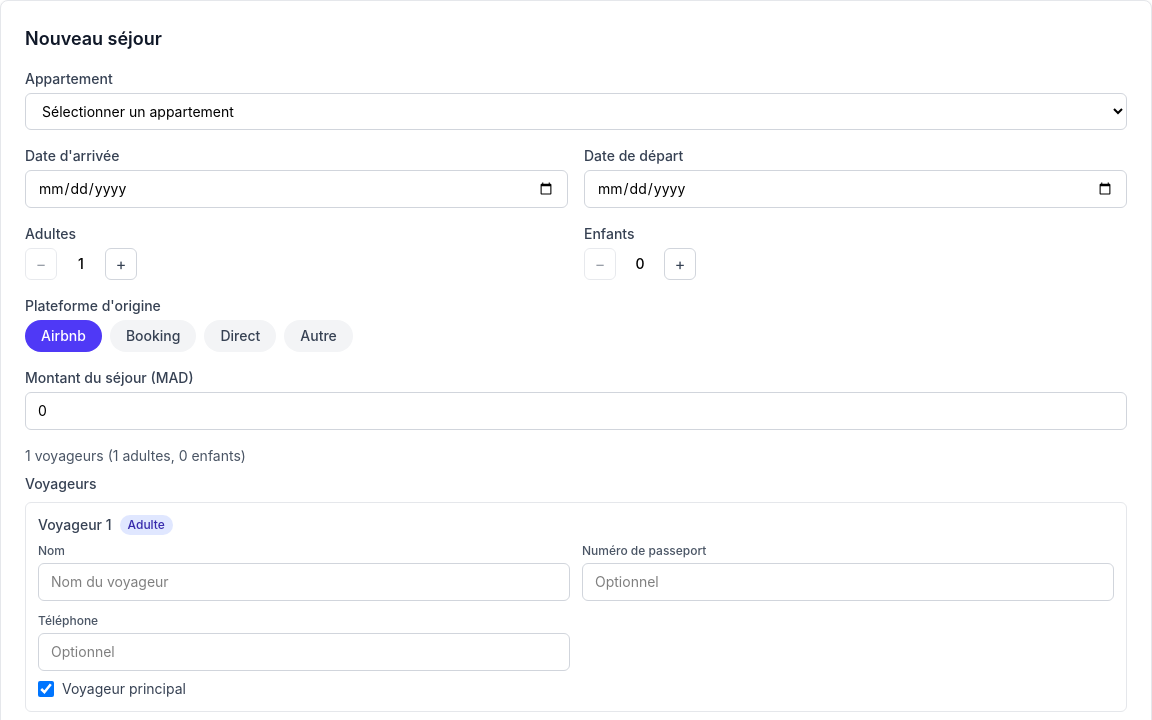
Test: NouveauSejourForm › un seul voyageur peut être principal à la fois
This screenshot has width=1152, height=720.
Click the button named "augmenter le nombre d'adultes" at (121, 264), box x1=105 y1=248 x2=137 y2=280
(page scrolled)
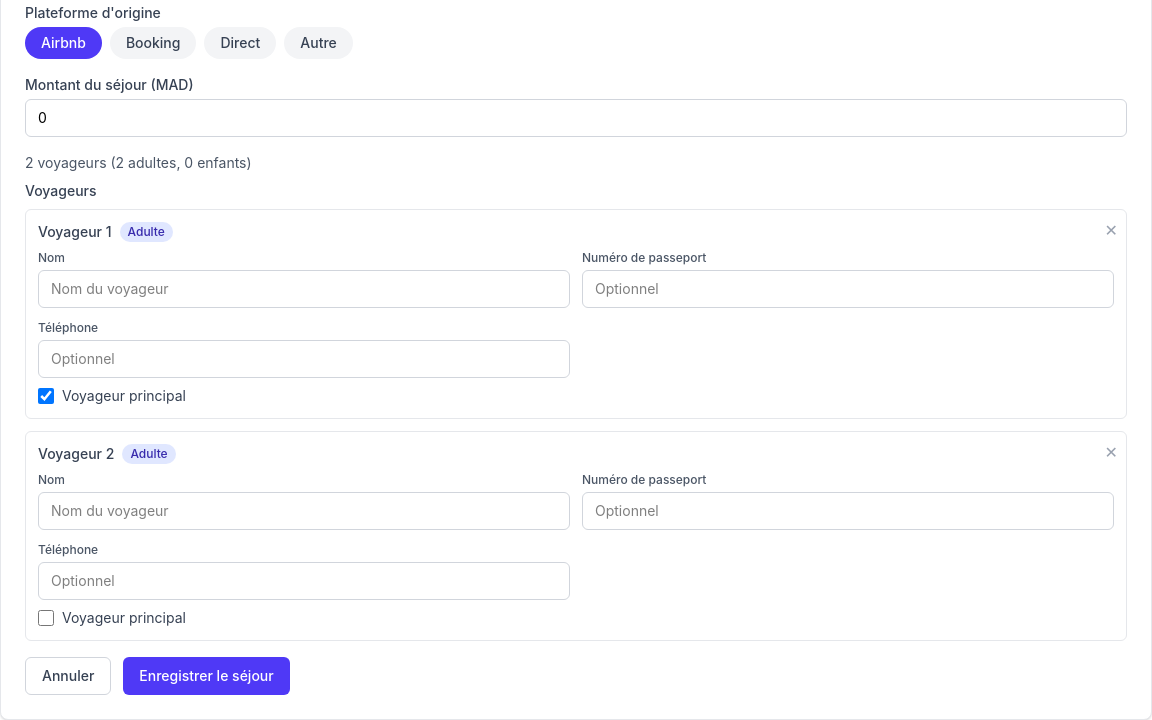
Click the 2nd checkbox labelled "Voyageur principal" at (46, 618), box x1=38 y1=610 x2=54 y2=626
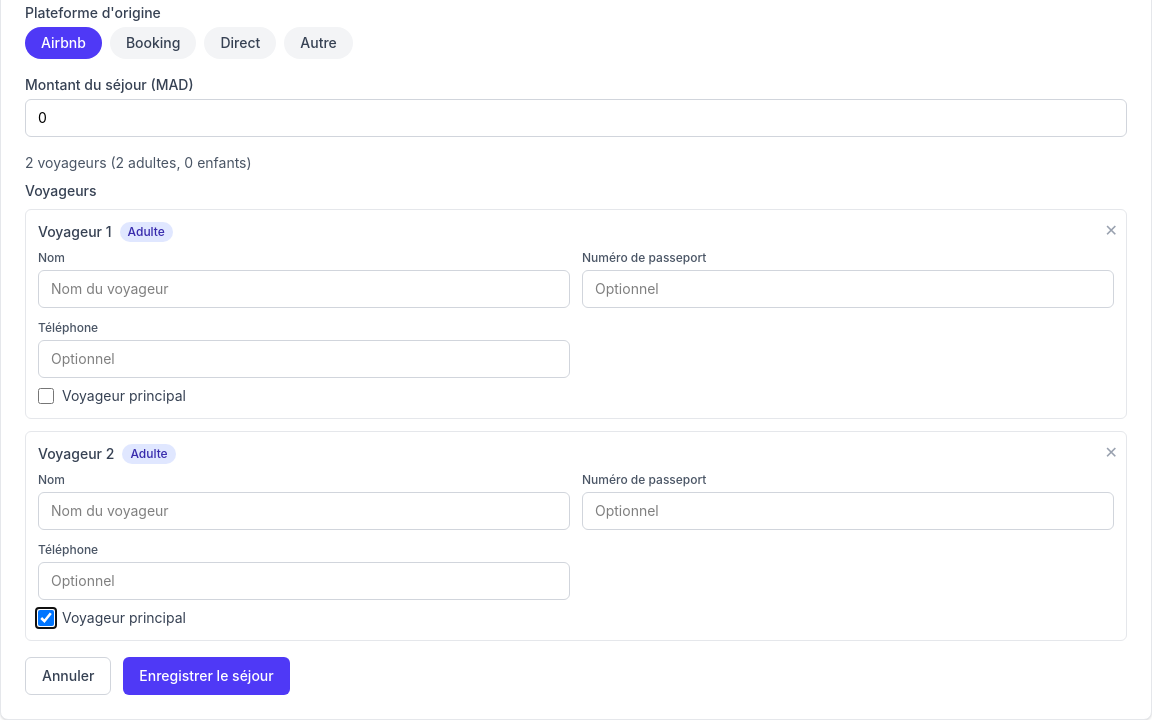
Expected: the 2nd checkbox labelled "Voyageur principal" is checked, x1=38 y1=610 x2=54 y2=626
Expected: the 1st checkbox labelled "Voyageur principal" is not checked, x1=38 y1=388 x2=54 y2=404
